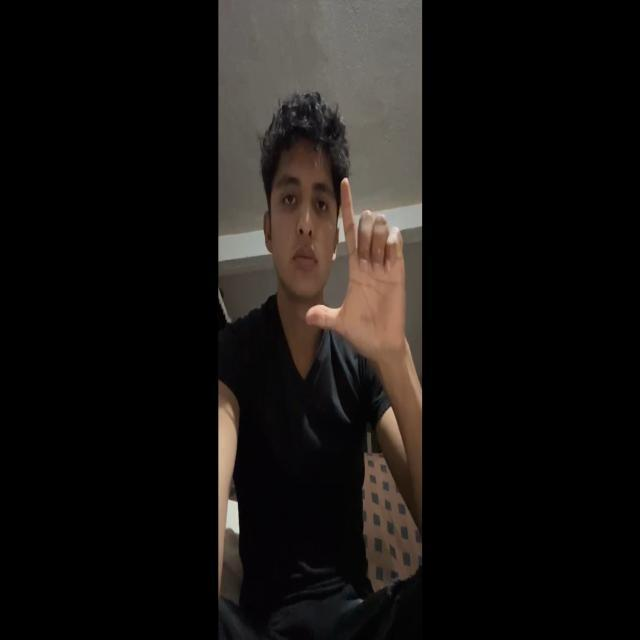L: (304, 163, 416, 364)
